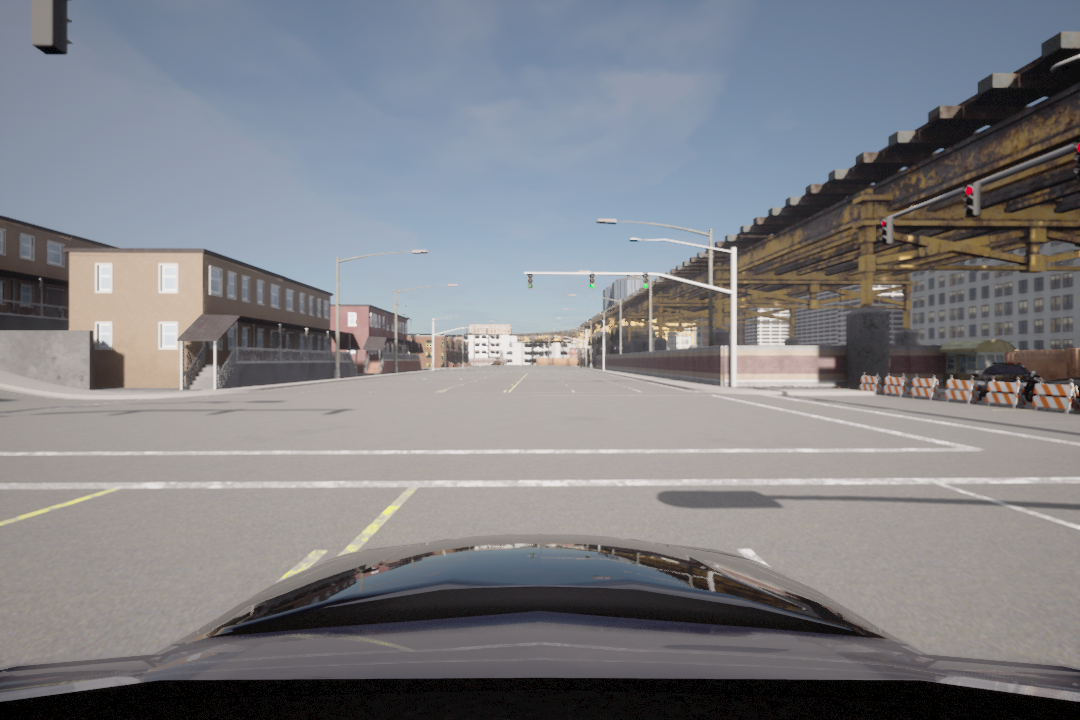TrafficLight: (962, 181, 987, 220), (878, 214, 893, 244), (587, 271, 599, 293), (525, 271, 537, 291), (641, 272, 651, 291)
